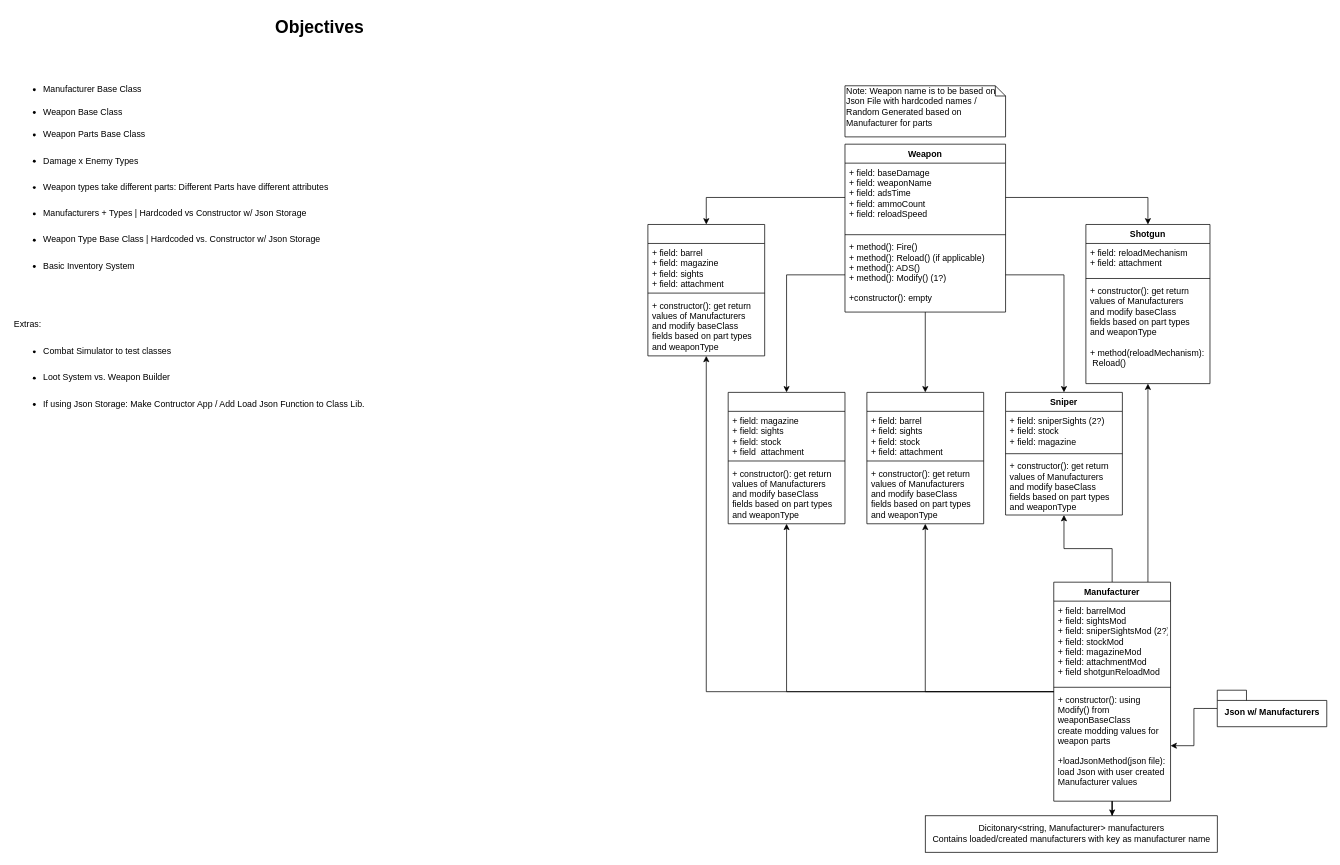
Some shapes in this 1340 by 865 pixel diagram are drawn without their labels. Each missing label, with the box of its shape:
AR: (866, 392, 984, 524)
LMG: (727, 392, 845, 524)
SMG: (647, 224, 765, 356)
